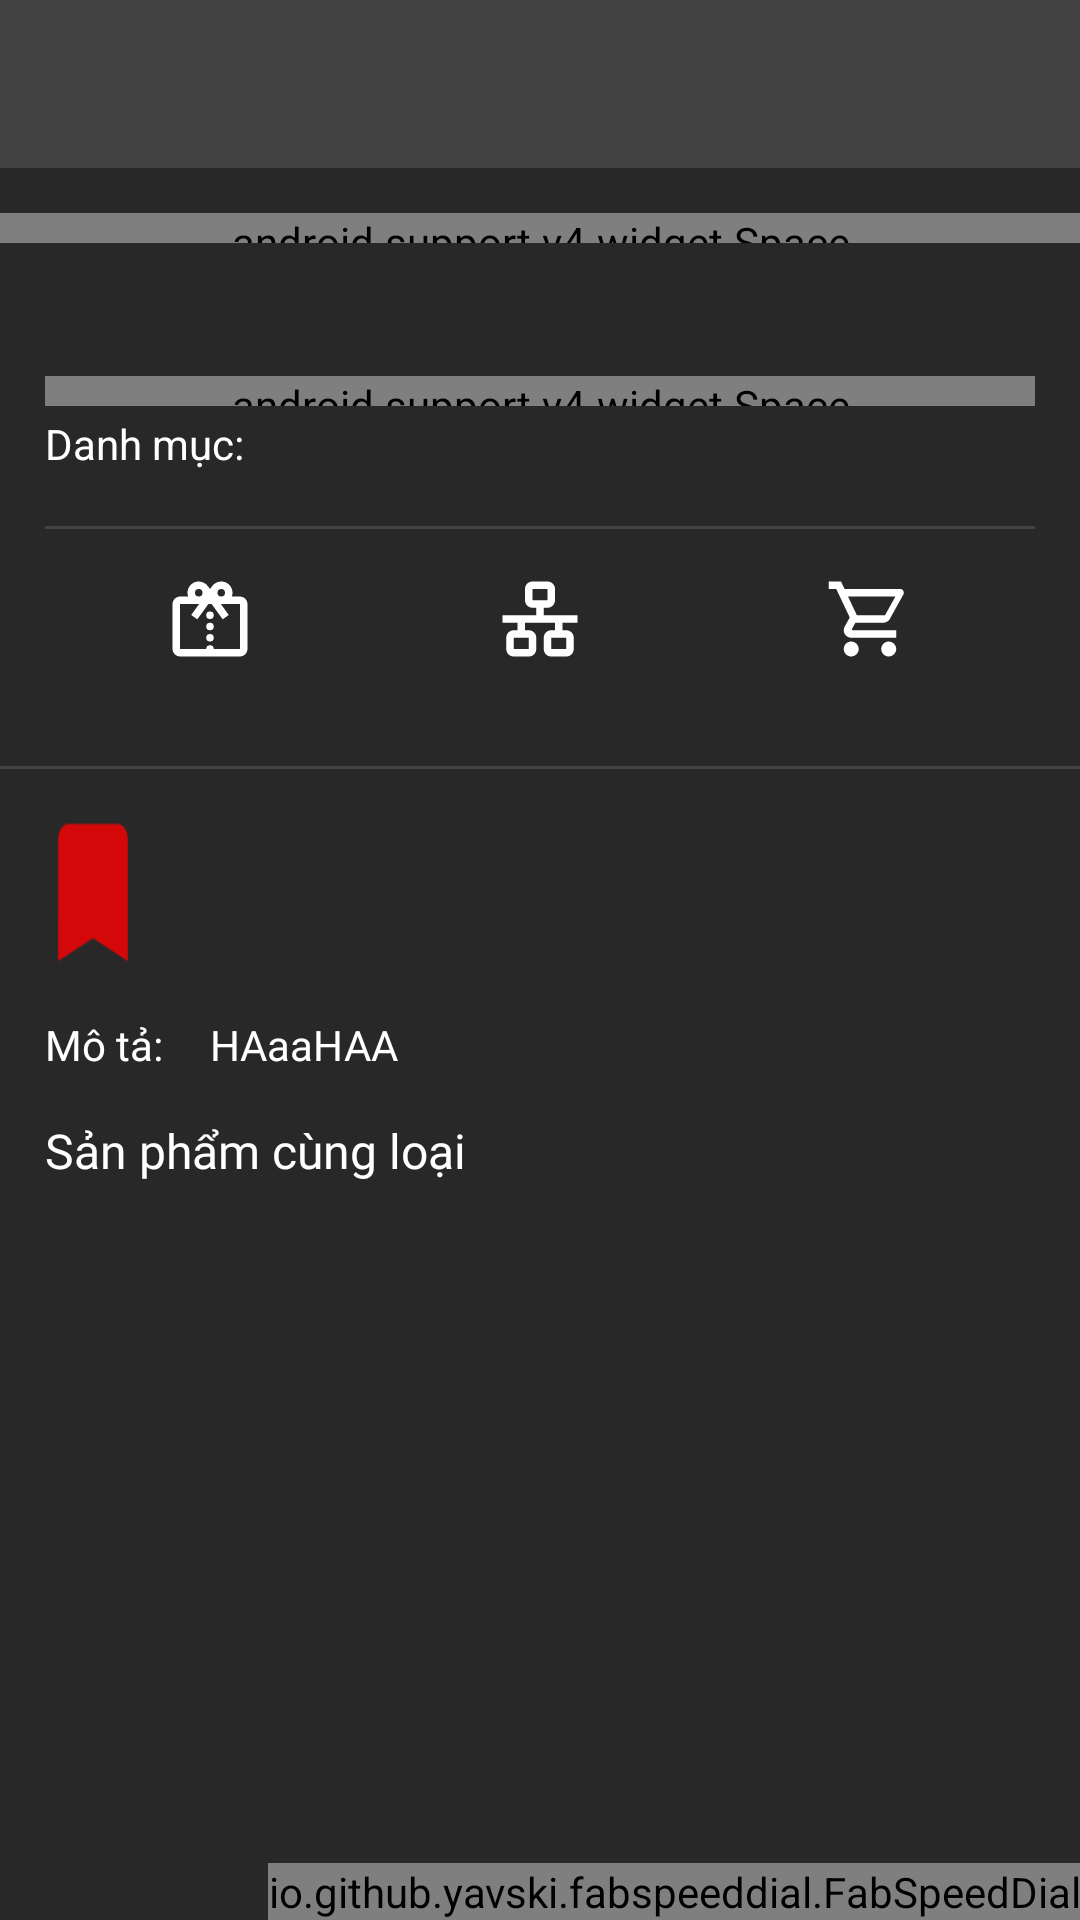

Screen size 1080px×1920px. Icon name, then its box in pixels as region(x1, y1, x2, y2):
cart: region(828, 581, 904, 657)
ian: region(502, 581, 578, 657)
